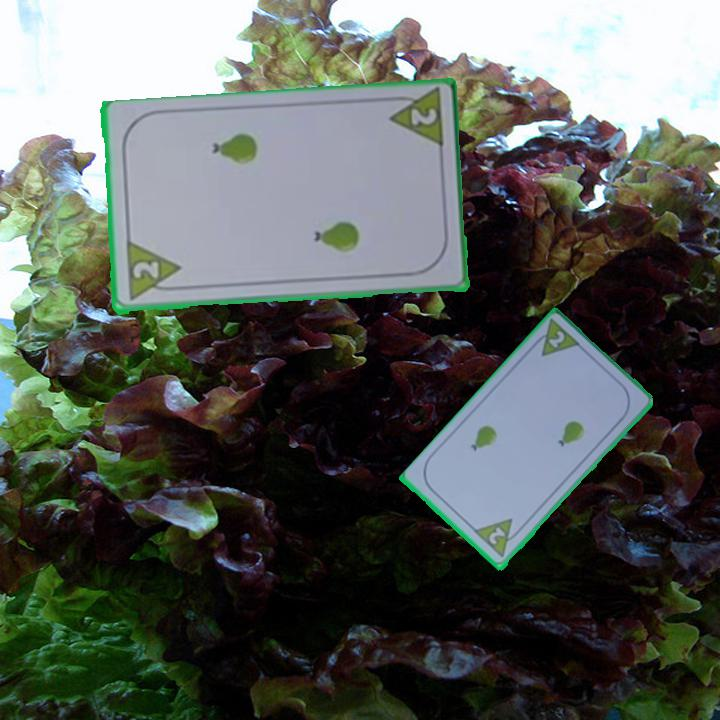2p: (382, 87, 446, 152), (527, 316, 584, 360), (471, 515, 525, 561), (128, 258, 161, 283)
